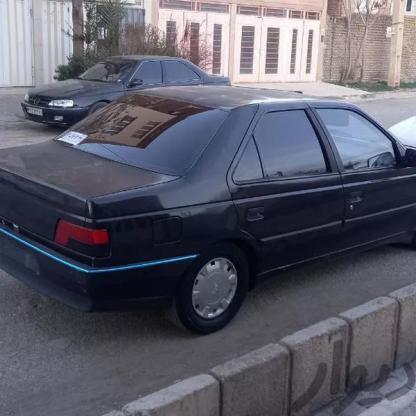Car: (0, 92, 416, 316), (17, 42, 235, 124)
